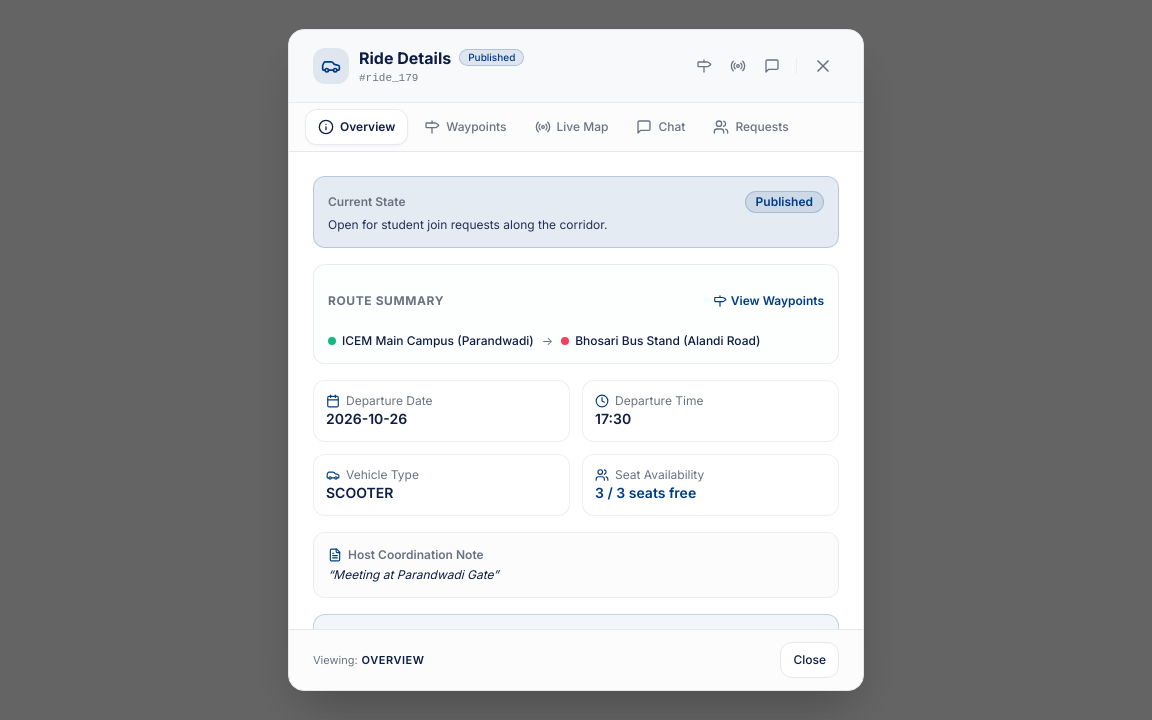
Scenario: RideDetailModal Navigation & Ergonomics › allows host to view Requests tab
Click the button "Requests" at (751, 127), box [701, 109, 801, 145]
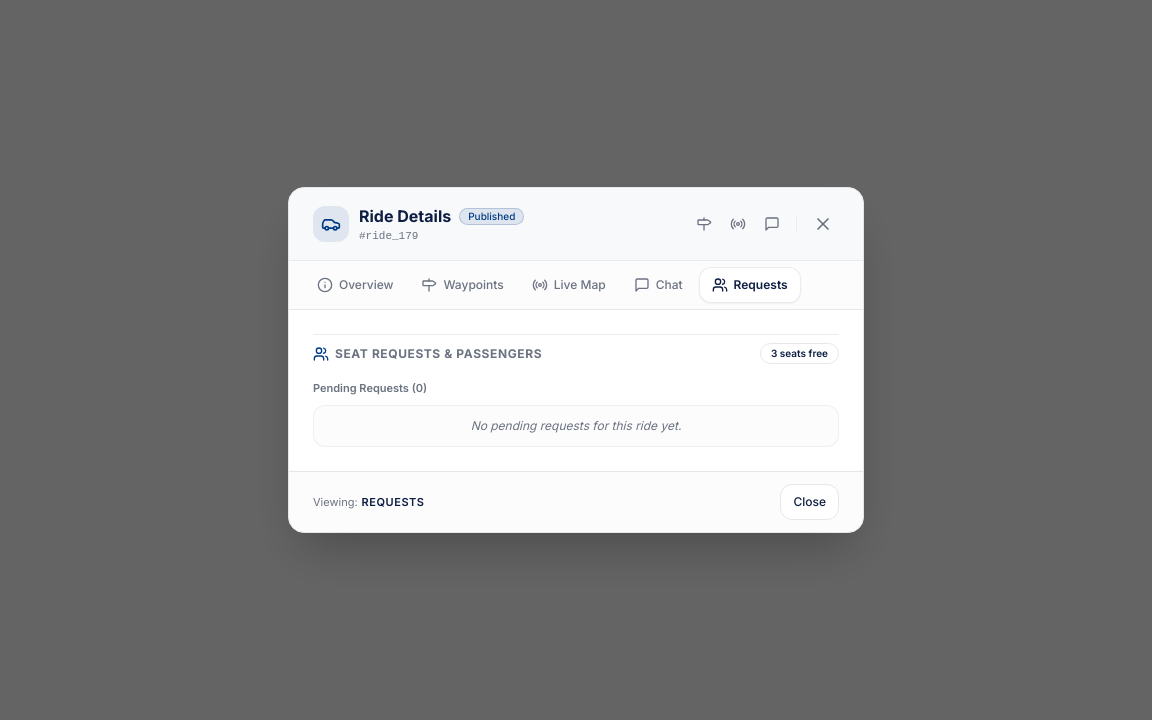
Expected: the heading "Seat Requests & Passengers" is shown, [313, 346, 542, 362]
